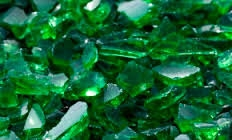glass: (47, 29, 102, 78), (40, 94, 92, 139), (173, 100, 229, 136), (3, 6, 60, 41), (95, 32, 159, 59), (151, 57, 203, 87), (21, 101, 53, 132), (101, 80, 129, 109)
